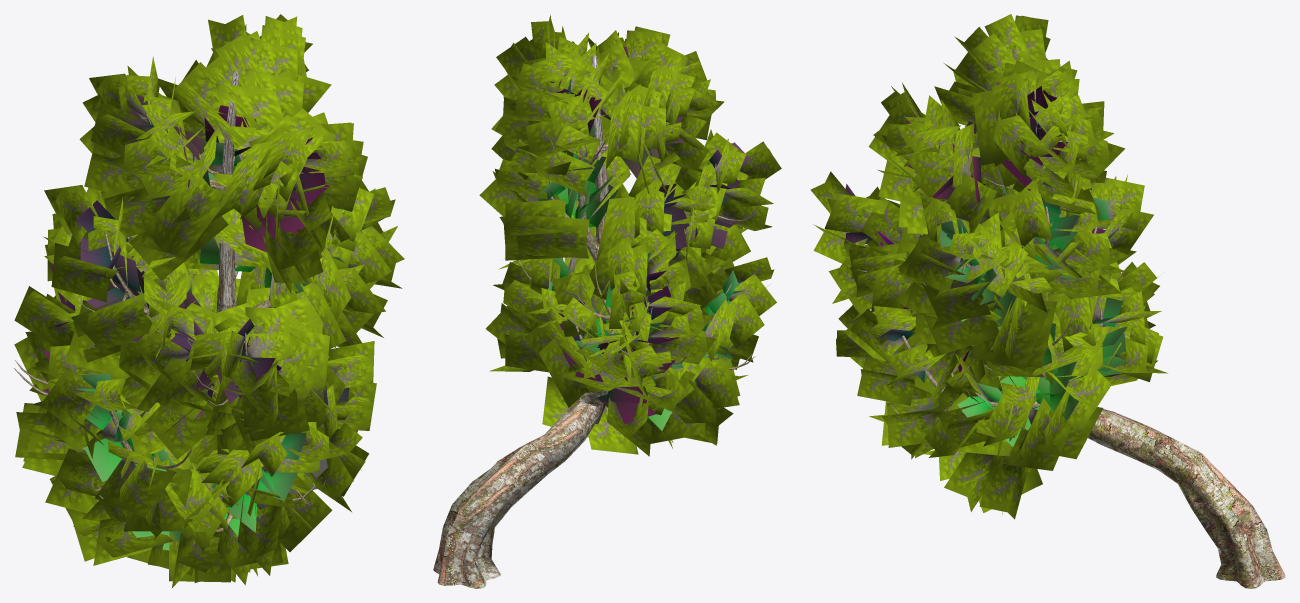
Rendered from Tree_01.fbx.
3 views of the same model, side by side, from view 1: azimuth 30°, elevation 25°; view 2: azimuth 150°, elevation 25°; view 3: azimuth 270°, elevation 25° (orthographic). The views are drawn at different scales.
Visible parts, largest first — view 1: Tree_1, Tree_2, Tree_0; view 2: Tree_1, Tree_0, Tree_2; view 3: Tree_1, Tree_0, Tree_2.
Part boxes in pixels (left/top/right/bottom): Tree_1: left=14, top=14, right=404, bottom=588; Tree_2: left=43, top=95, right=365, bottom=550; Tree_0: left=14, top=70, right=384, bottom=531; Tree_1: left=479, top=14, right=781, bottom=456; Tree_0: left=433, top=54, right=760, bottom=588; Tree_2: left=523, top=46, right=749, bottom=433; Tree_1: left=810, top=14, right=1167, bottom=519; Tree_0: left=858, top=115, right=1285, bottom=588; Tree_2: left=845, top=68, right=1127, bottom=453.
Bounding box in the file's own units: 90.86 × 148 × 125.
